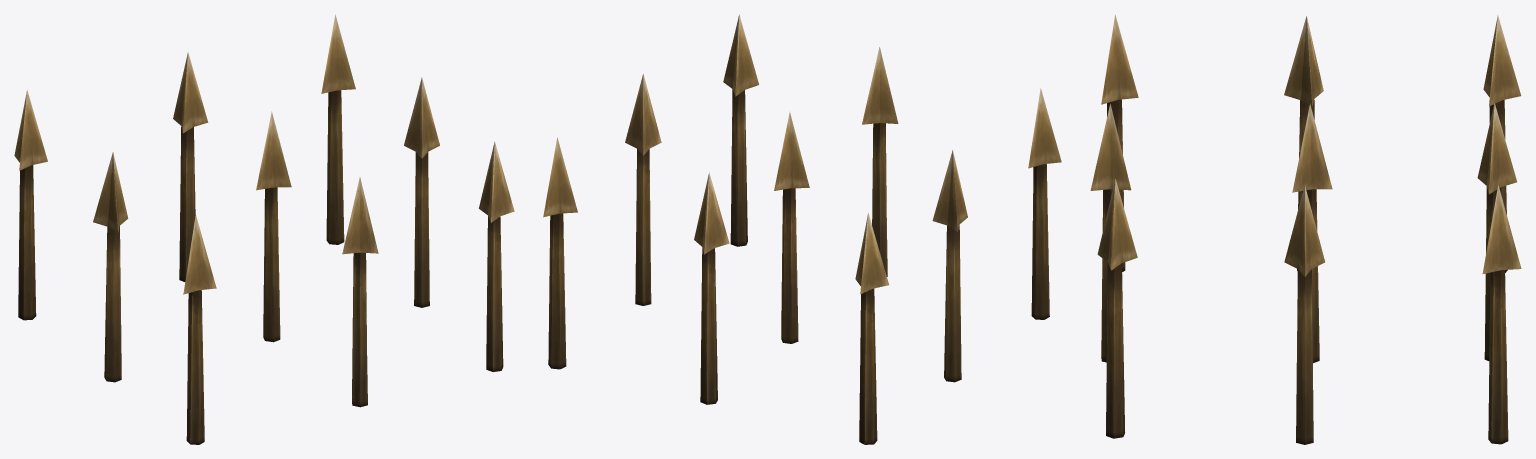
Rendered from fortress_runner_spikes_01.fbx.
3 views of the same model, side by side, from view 1: azimuth 30°, elevation 25°; view 2: azimuth 150°, elevation 25°; view 3: azimuth 270°, elevation 25° (orthographic). The views are drawn at different scales.
Parts seen in each view (by area): view 1: fortress_spikes_mat; view 2: fortress_spikes_mat; view 3: fortress_spikes_mat.
Boxes of the visible parts, <box> form: fortress_spikes_mat: <box>14,14,514,444</box>; fortress_spikes_mat: <box>543,14,1061,444</box>; fortress_spikes_mat: <box>1090,14,1521,444</box>.
Bounding box in the file's own units: 2.98 × 1.88 × 2.86.
